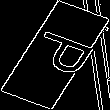P_SE: (14, 27, 96, 83)
